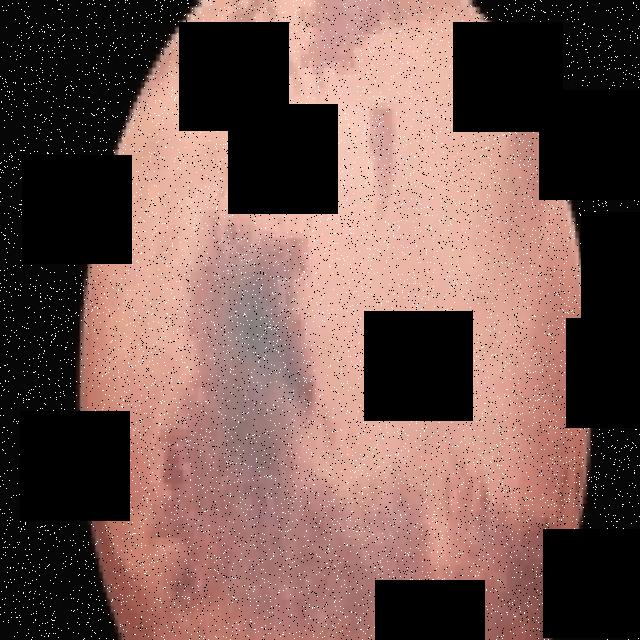Mars: (77, 0, 590, 640)
